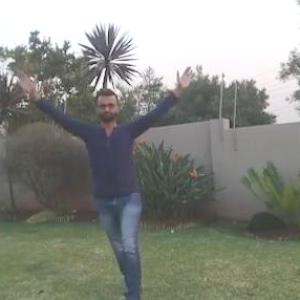takeoff: (16, 70, 191, 299)
